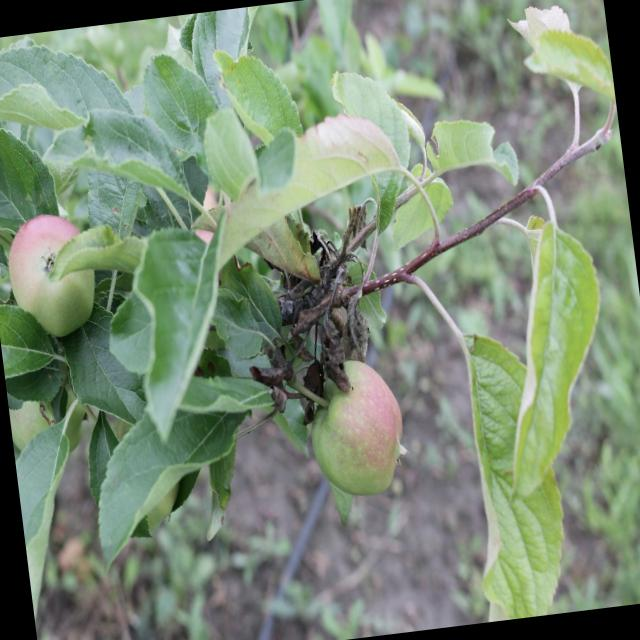-FireBlight-: (245, 204, 379, 431)
